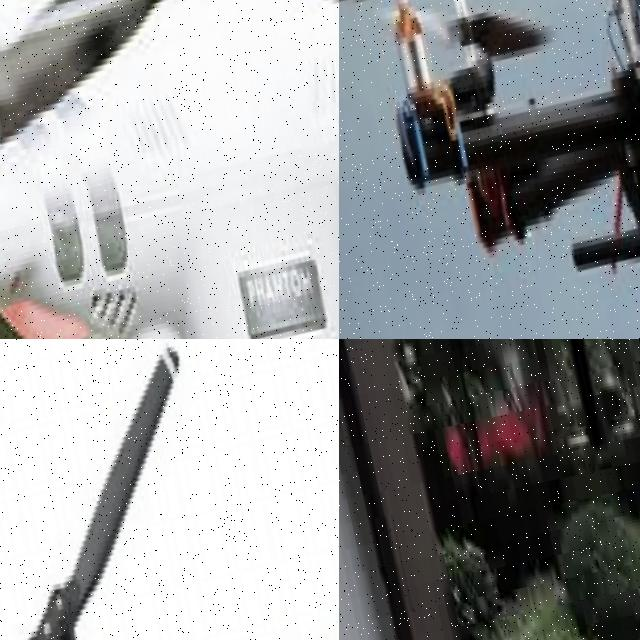drone: (0, 0, 339, 339), (339, 0, 640, 339), (0, 339, 339, 640)
